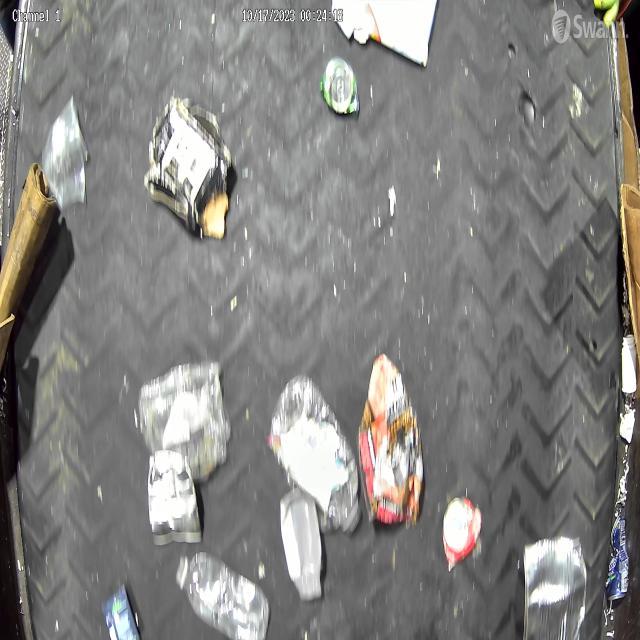can: (523, 535, 587, 640), (148, 450, 202, 546), (440, 492, 482, 571), (323, 56, 359, 118), (605, 514, 629, 602)
plastic_bottle: (268, 373, 360, 530), (134, 360, 229, 476), (175, 549, 272, 640)
